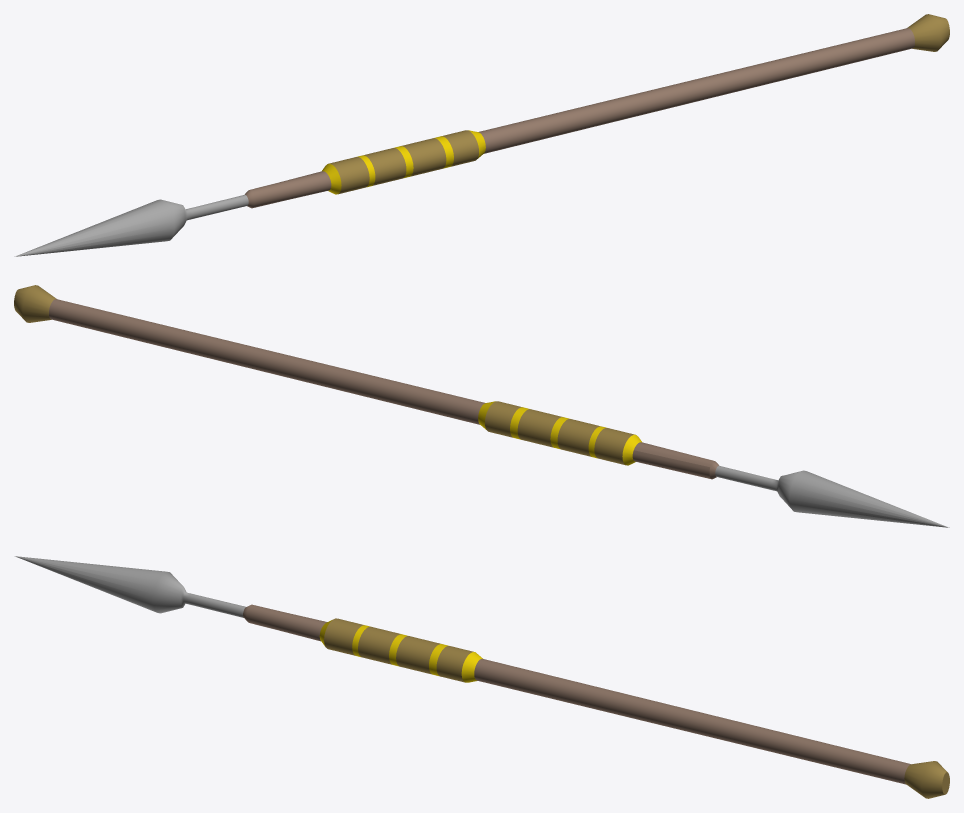
Rendered from Spear-Ver1.fbx.
3 views of the same model, one above another, from view 1: azimuth 30°, elevation 25°; view 2: azimuth 150°, elevation 25°; view 3: azimuth 330°, elevation 25° (orthographic).
Visible parts, largest first — view 1: polySurface7; view 2: polySurface7; view 3: polySurface7.
Boxes of the visible parts, x1,y1,x2,y2 form: polySurface7: (14,14,949,256); polySurface7: (14,285,949,527); polySurface7: (14,556,949,798).
Size of the model in its own units: 6.13 by 0.2444 by 0.2444.
